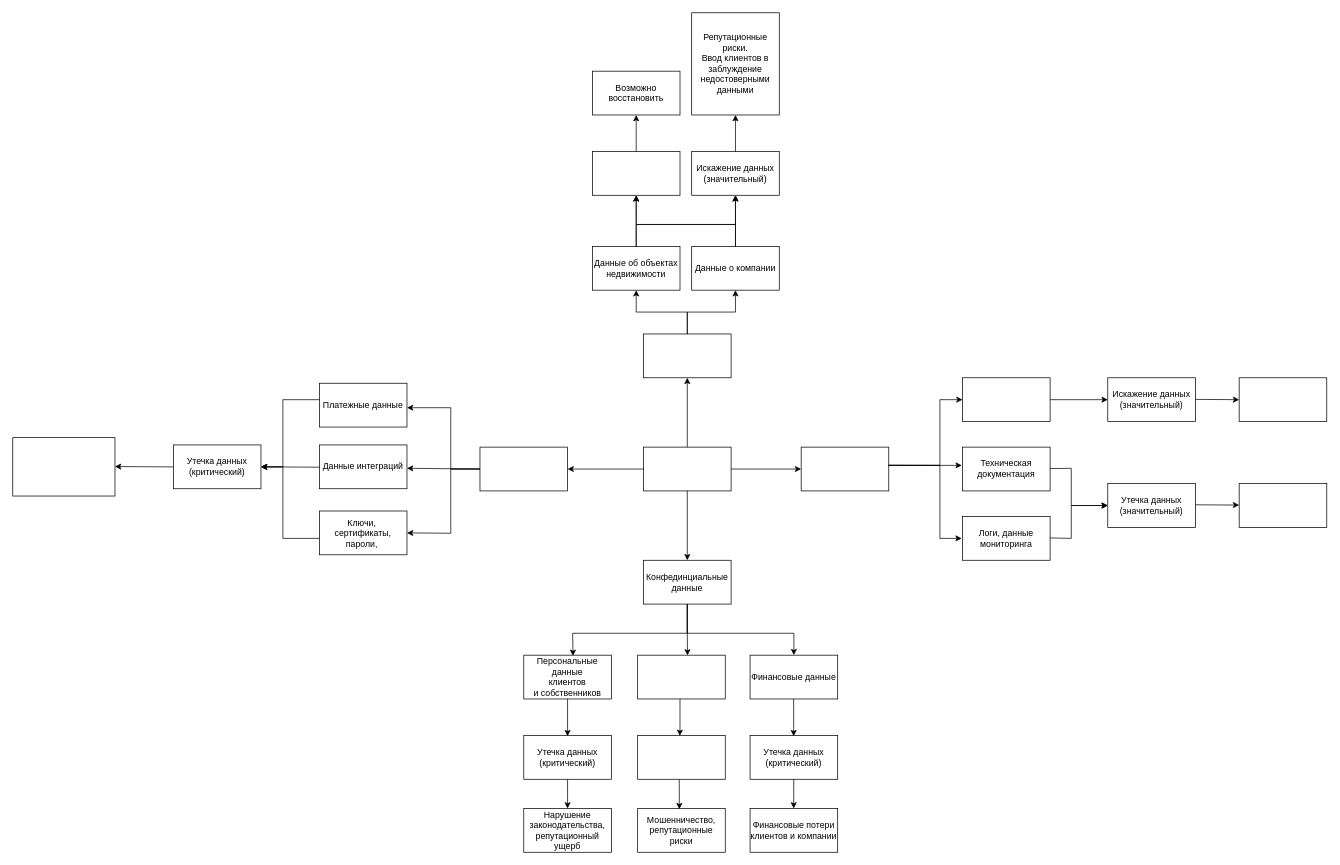
This 1340x865 diagram has some shape labels left out. Each missing label, with the centre of its shape:
Аналитические данные и отчеты: point 1006,399
Безопасность данных: point 687,468
Влияние на принятые решения компании: point 1282,399
Внутренние данные: point 844,468
Данные о сделках: point 681,676
Искажение данных (критический): point 681,757
Потеря данных (незначительно): point 636,173
Прямые убытки, репутационный ущерб, нарушение законодательства: point 63,466
Публичные данные: point 687,355
Раскрытие внутренних операций и уязвимостей: point 1282,505
Секретные данные: point 523,468
